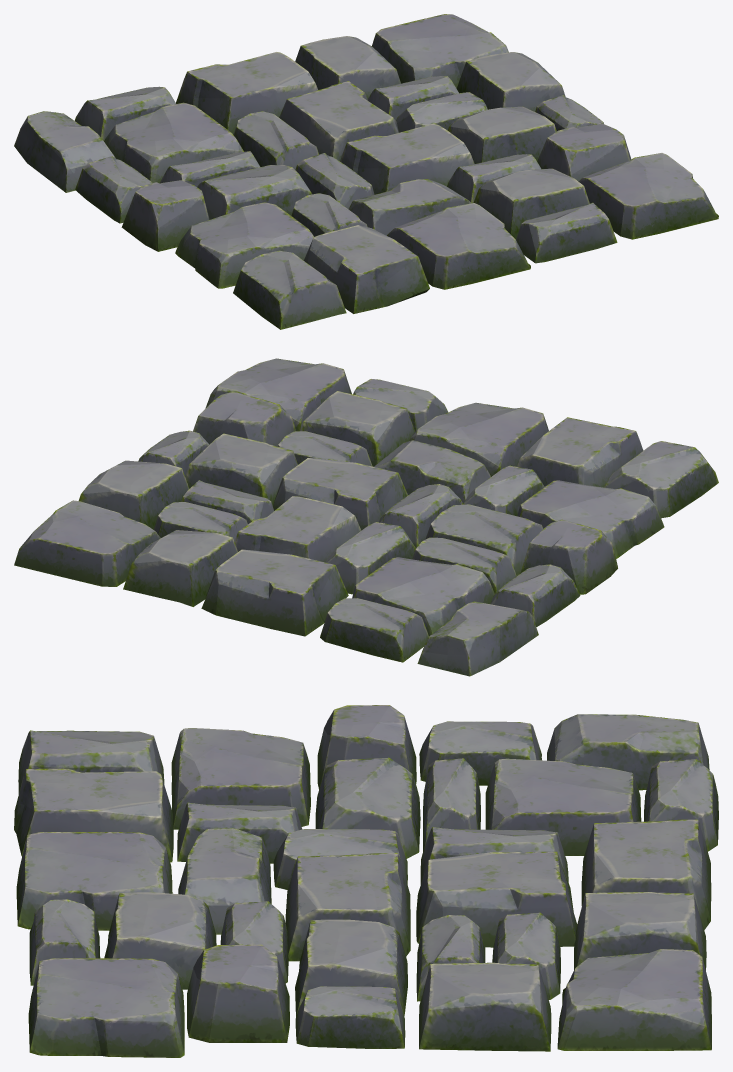
Rendered from RockPath_Square_Wide.glb.
3 views of the same model, one above another, from view 1: azimuth 30°, elevation 25°; view 2: azimuth 150°, elevation 25°; view 3: azimuth 270°, elevation 25° (orthographic). The views are drawn at different scales.
Parts seen in each view (by area): view 1: RockPath_Square_Wide; view 2: RockPath_Square_Wide; view 3: RockPath_Square_Wide.
Part boxes in pixels (x1,y1,x2,y2): RockPath_Square_Wide: (14,14,718,329); RockPath_Square_Wide: (14,358,718,676); RockPath_Square_Wide: (14,705,718,1057).
Size of the model in its own units: 2.05 by 0.1763 by 1.99.
1 material, 1 textured.
